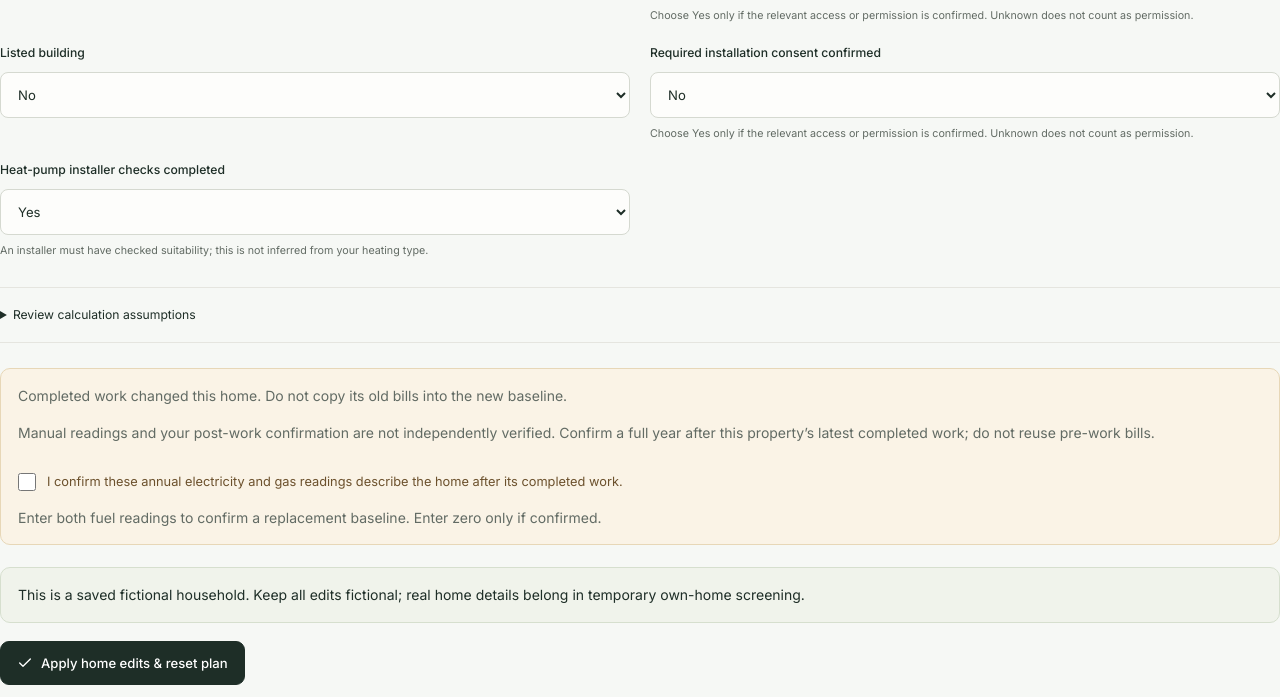
Test case: home form truth boundary › requires confirmation for replacement fuels and resets confirmation if readings change
(page scrolled)
Click the checkbox labelled "describe the home after" at (27, 482), box top-left (18, 473), bottom-right (36, 491)
(page scrolled)
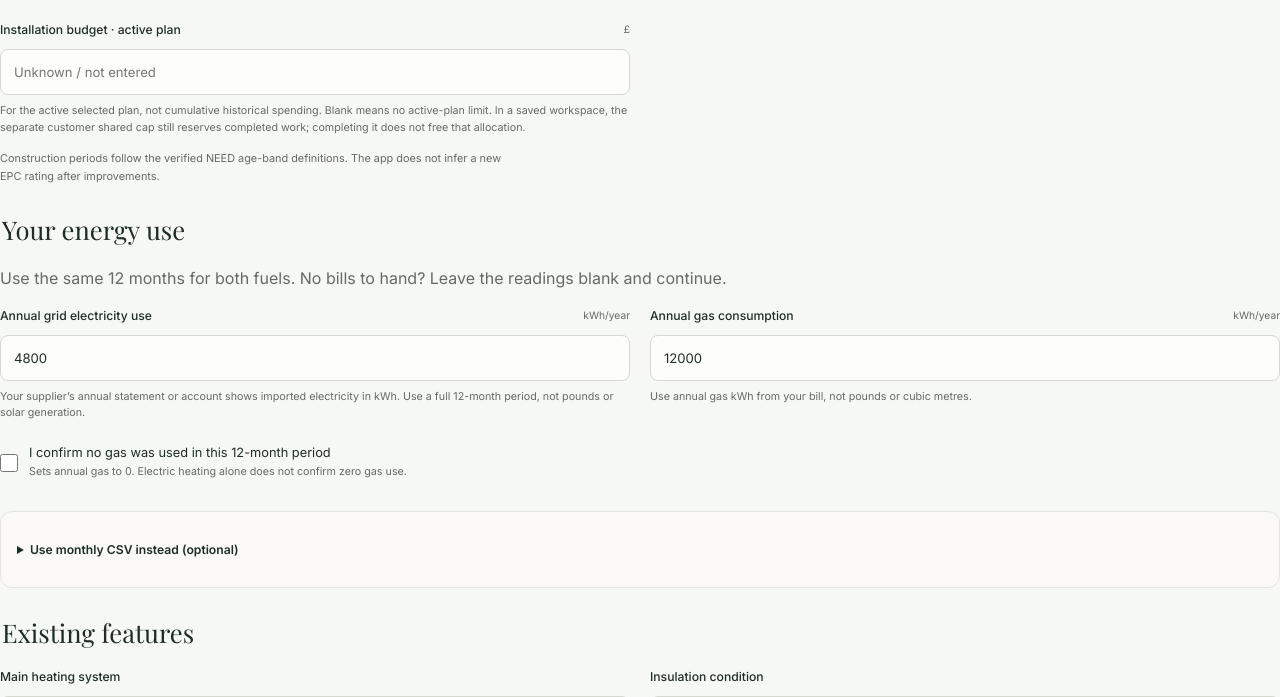
Clear the number field labelled "Annual gas consumption" at (965, 358), box top-left (650, 335), bottom-right (1279, 381)
(page scrolled)
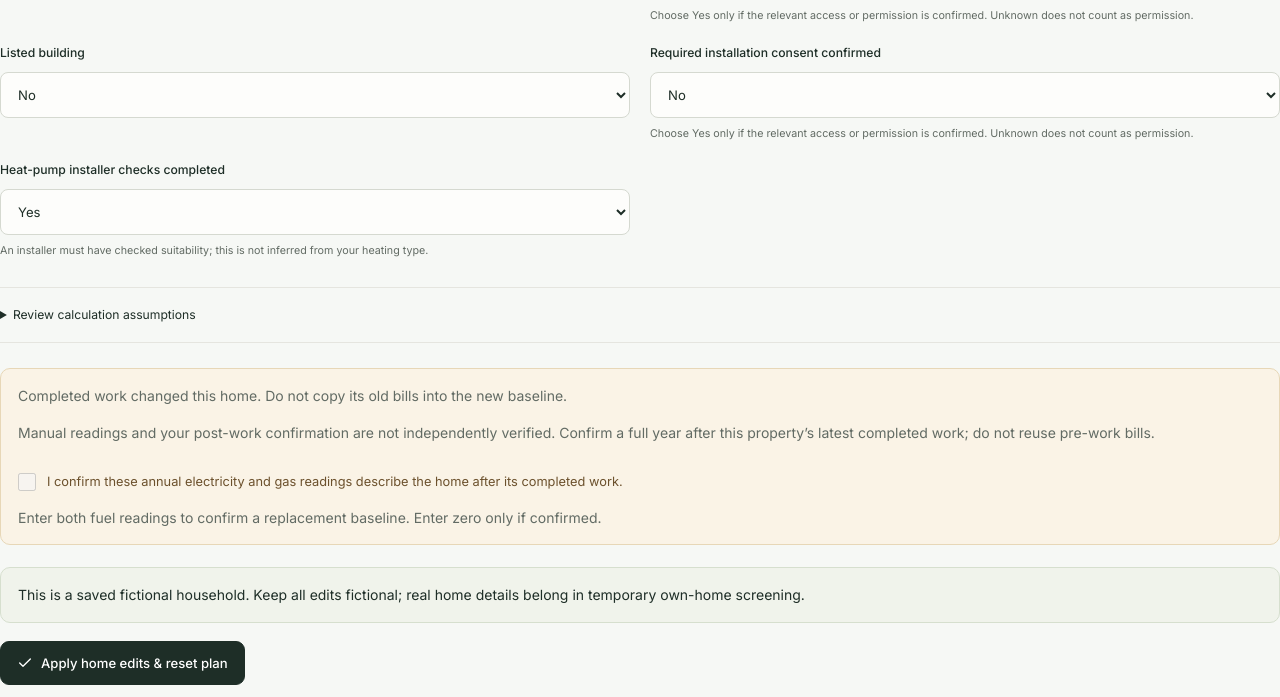
Expected: the checkbox labelled "describe the home after" is not checked, top-left (18, 473), bottom-right (36, 491)
Expected: the checkbox labelled "describe the home after" is disabled, top-left (18, 473), bottom-right (36, 491)
